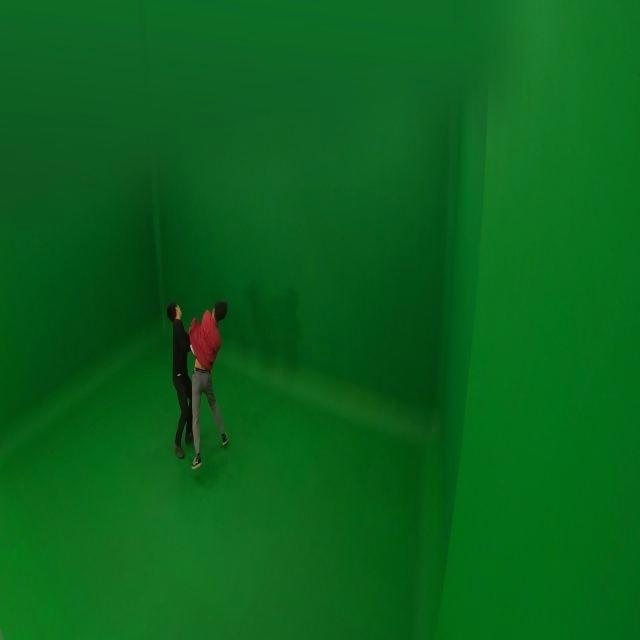fight: (167, 296, 231, 471)
